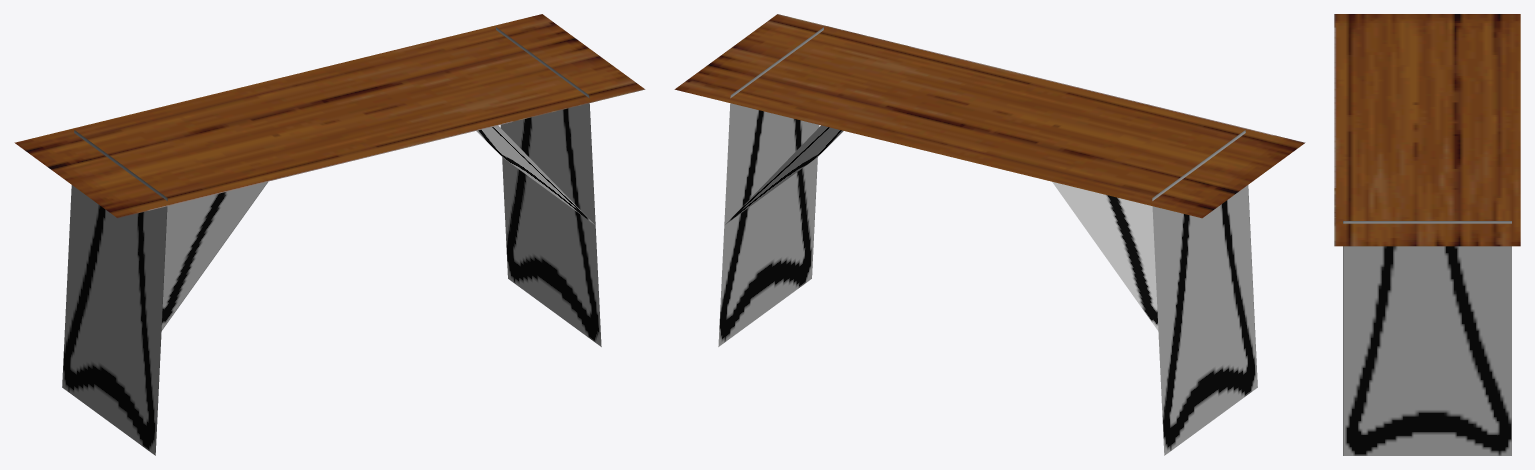
The model's file is Klapptisch [Alt]_1094.glb.
The picture shows the model from 3 angles, left to right: view 1: azimuth 30°, elevation 25°; view 2: azimuth 150°, elevation 25°; view 3: azimuth 270°, elevation 25°; orthographic projection. The views are drawn at different scales.
Visible parts, largest first — view 1: pPlaneShape22, pPlaneShape23, pPlaneShape26, pPlaneShape25, pPlaneShape27; view 2: pPlaneShape22, pPlaneShape23, pPlaneShape26, pPlaneShape25, pPlaneShape27; view 3: pPlaneShape22, pPlaneShape26.
Part boxes in pixels (left/top/right/bottom): pPlaneShape22: left=14, top=14, right=645, bottom=218; pPlaneShape23: left=62, top=130, right=167, bottom=455; pPlaneShape26: left=496, top=27, right=601, bottom=346; pPlaneShape25: left=161, top=181, right=267, bottom=330; pPlaneShape27: left=476, top=125, right=594, bottom=224; pPlaneShape22: left=674, top=14, right=1305, bottom=218; pPlaneShape23: left=1152, top=130, right=1257, bottom=455; pPlaneShape26: left=718, top=27, right=823, bottom=346; pPlaneShape25: left=1052, top=181, right=1158, bottom=330; pPlaneShape27: left=725, top=125, right=843, bottom=224; pPlaneShape22: left=1334, top=14, right=1520, bottom=246; pPlaneShape26: left=1343, top=221, right=1511, bottom=455.
Size of the model in its own units: 0.242 by 0.1116 by 0.0819.
Materials: 5 (5 with a texture image).
